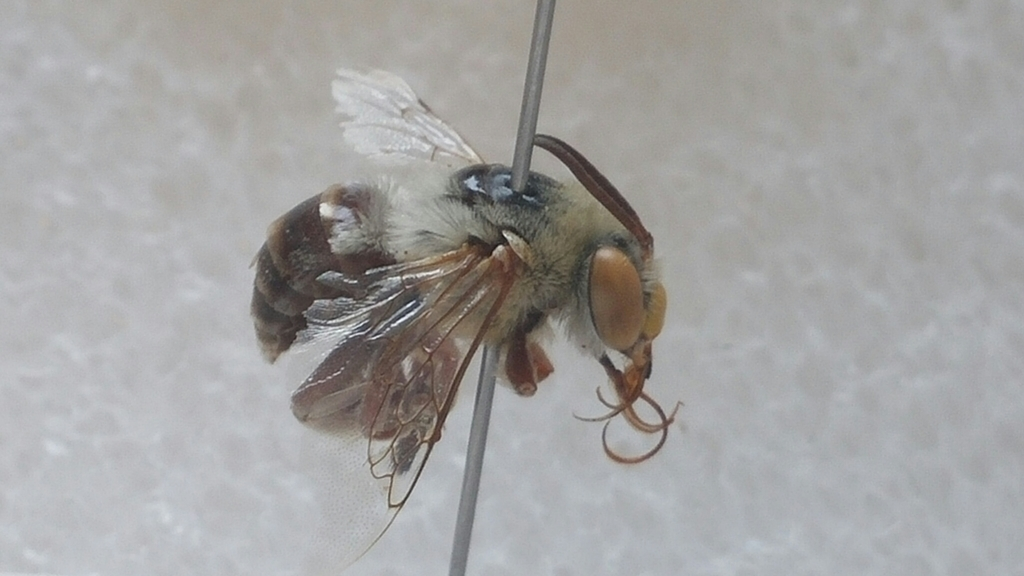not_bumblebee: (248, 62, 685, 566)
